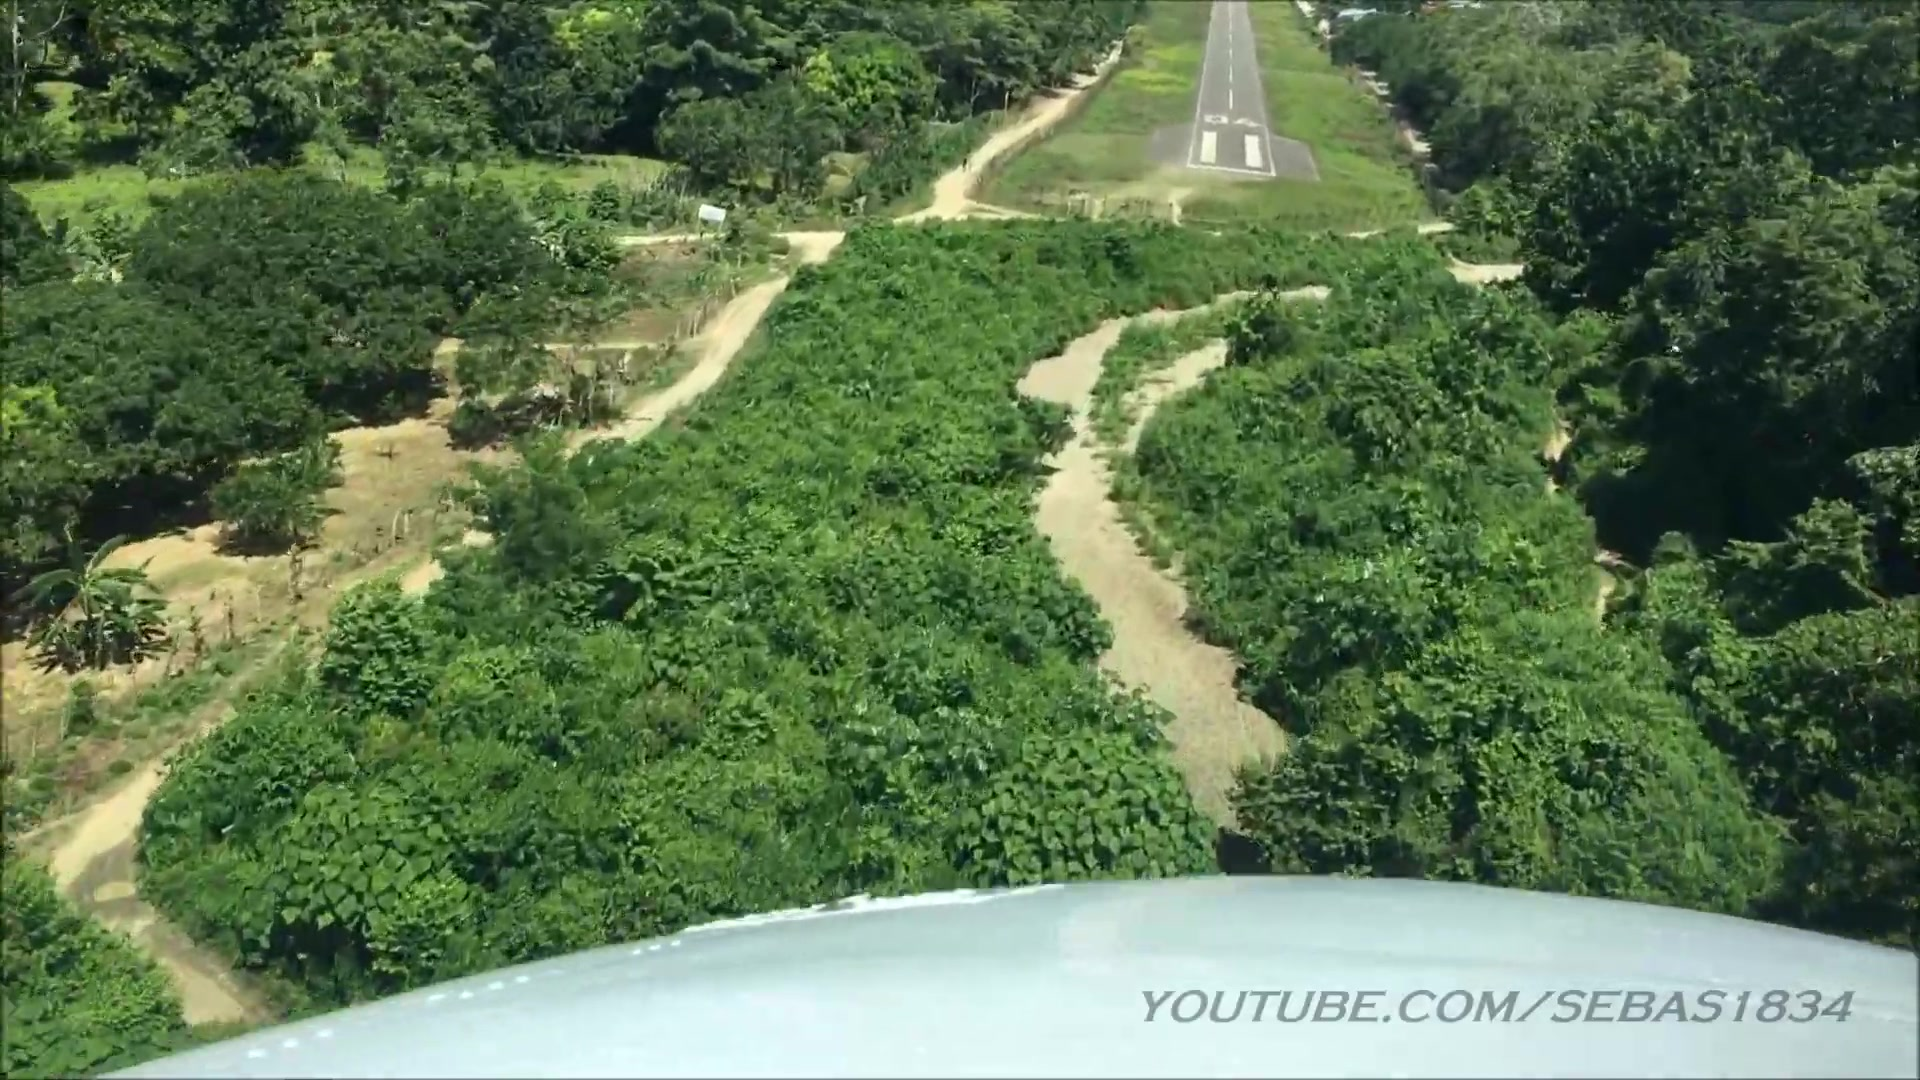entrance: (1199, 131, 1263, 169)
runway: (1183, 1, 1282, 181)
